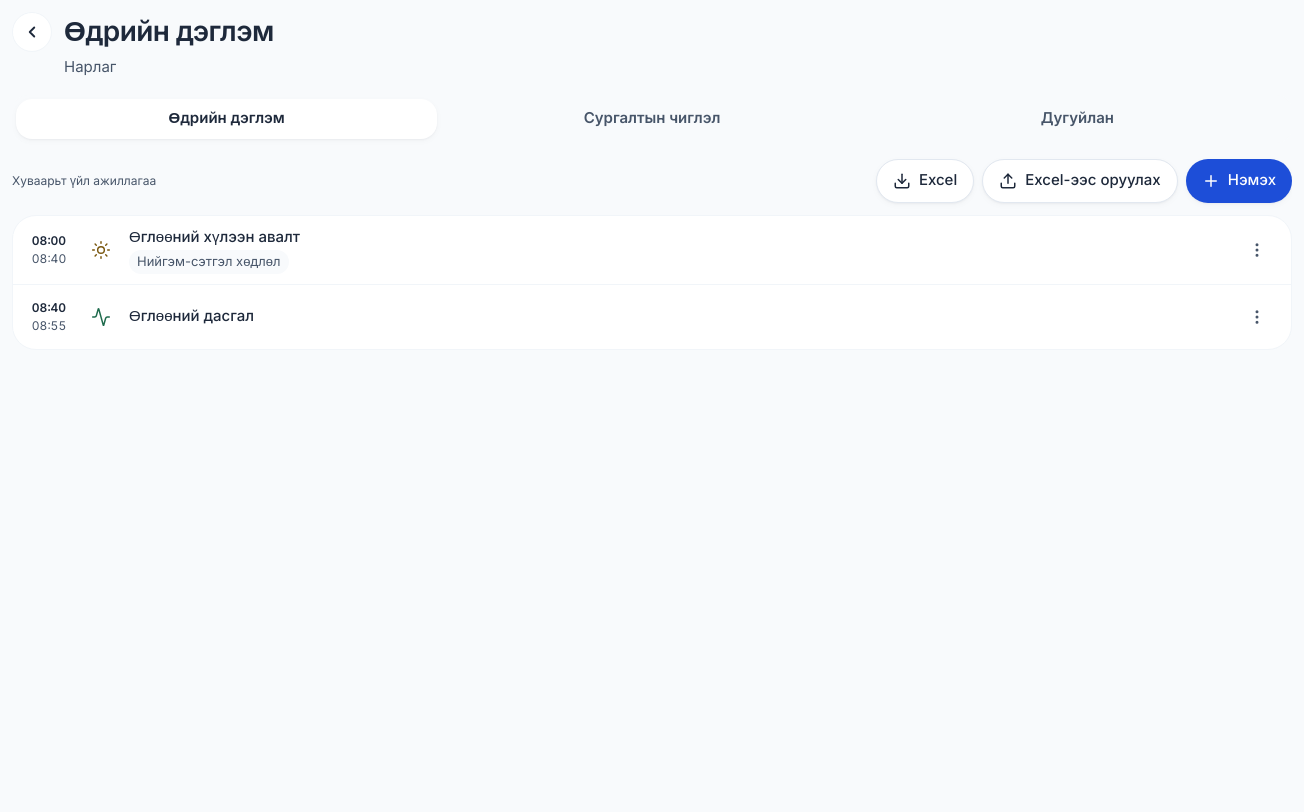
the curriculum tab › lists the seven areas with their pictures and no numbers, each opening downward
Click the tab "Сургалтын чиглэл" at [652, 118], box [441,98,863,138]
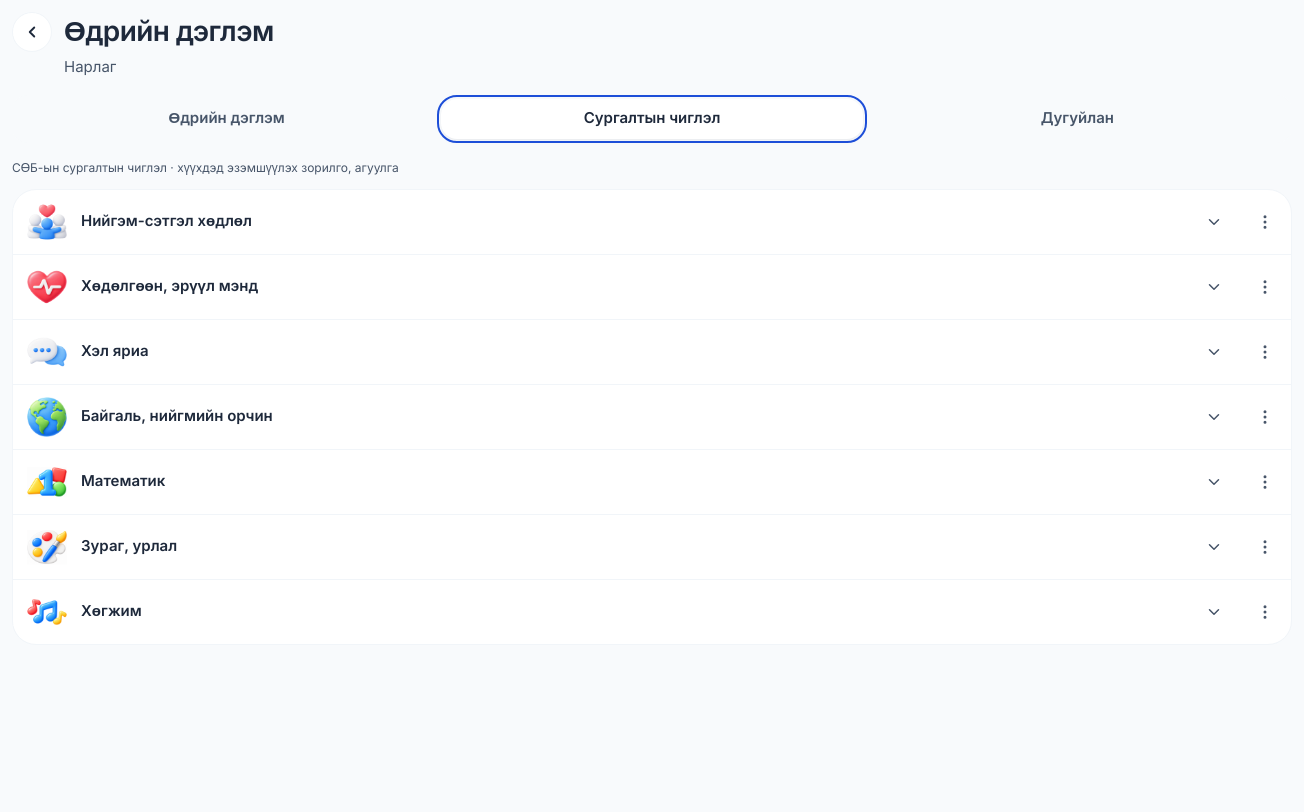
Check: the text "СӨБ-ын сургалтын чиглэл · хүүхдэд эзэмшүүлэх зорилго, агуулга" is shown, box [12,160,399,174]
Click the button "Хөгжим" at [47, 612], box [13,580,1235,644]
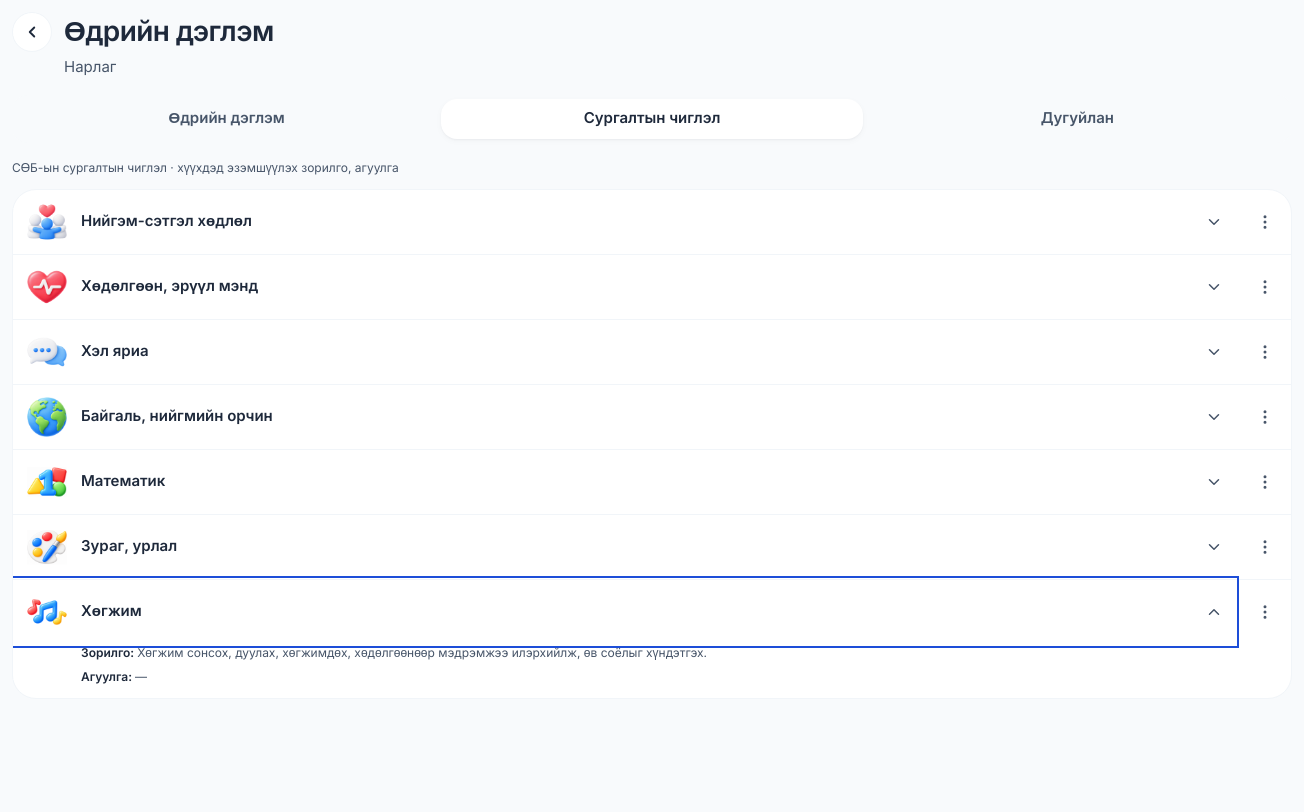
Check: the button "Хөгжим" is expanded, box [13,580,1235,644]
Check: the text "Хөгжим сонсох, дуулах" is shown, box [137,644,707,660]
